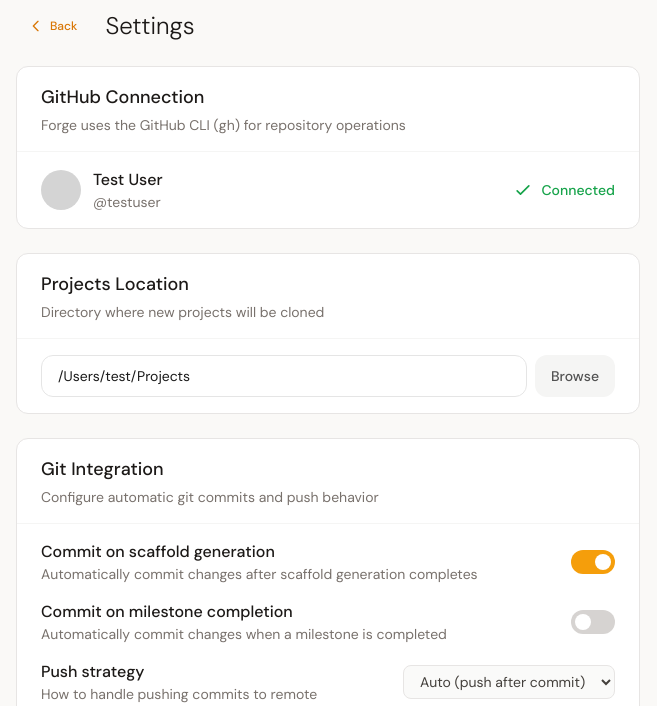
SettingsPage › should update clone root when folder is selected
The image size is (657, 706).
Expected: the text "Browse" is shown, [551,366,599,386]
// Click browse
What coordinates should you click on to do the following:
click the button "Browse"
I would click on:
 (575, 376)
Its box is [535,355,615,397].
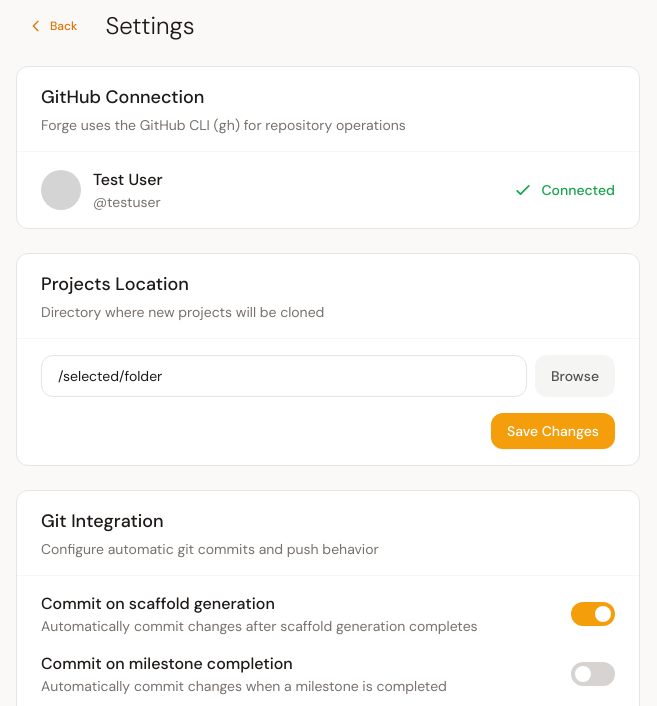
Expected: the field with placeholder "~/Projects" holds "/selected/folder", [41,355,527,397]
